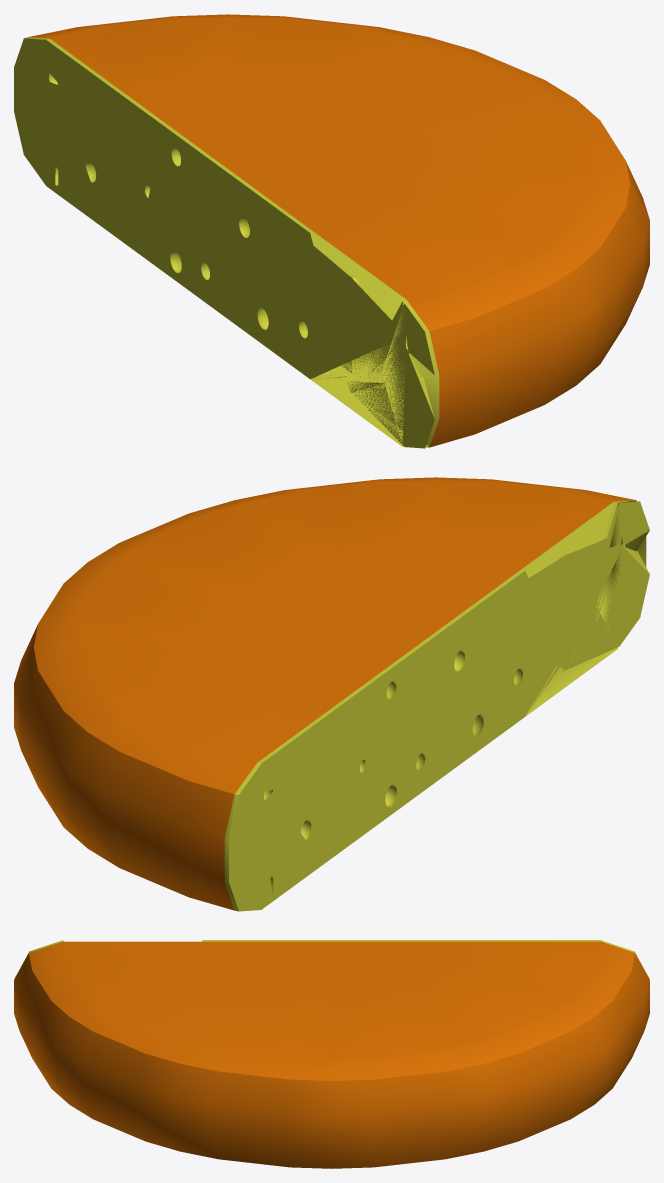
File: Käse3.fbx
3 renders of one model, top to bottom at view 1: azimuth 30°, elevation 25°; view 2: azimuth 150°, elevation 25°; view 3: azimuth 270°, elevation 25°, orthographic. The views are drawn at different scales.
Parts seen in each view (by area): view 1: pCylinder18; view 2: pCylinder18; view 3: pCylinder18.
Boxes of the visible parts, box(x1,y1,x2,y2) form: pCylinder18: box(14, 14, 649, 448); pCylinder18: box(14, 477, 649, 911); pCylinder18: box(14, 940, 649, 1168).
Size of the model in its own units: 0.9936 by 0.3763 by 1.97.
